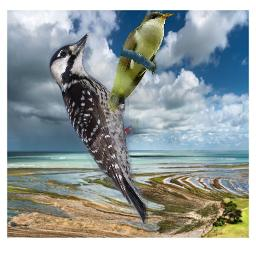Cuckoo: (106, 11, 175, 112)
Woodpecker: (48, 32, 148, 224)
